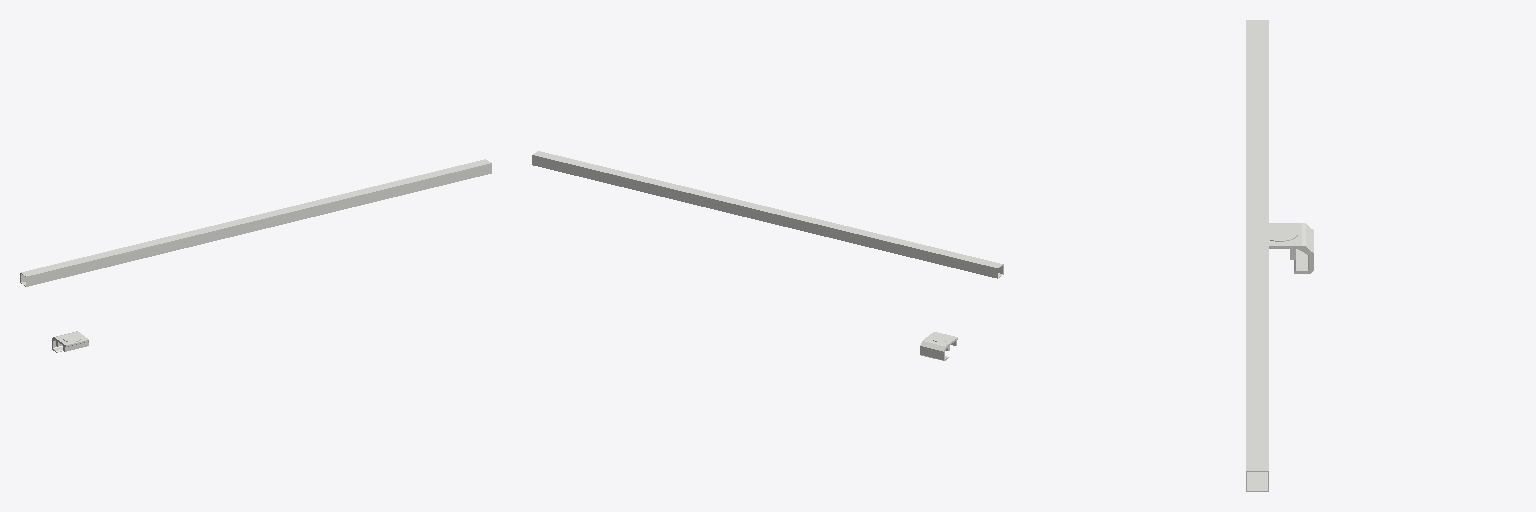
URDF robot description (linear_axis_two_robots):
<?xml version="1.0" ?>
<!-- =================================================================================== -->
<!-- |    This document was autogenerated by xacro from linear_axis_two_robots.xacro   | -->
<!-- |    EDITING THIS FILE BY HAND IS NOT RECOMMENDED                                 | -->
<!-- =================================================================================== -->
<robot name="linear_axis_two_robots" xmlns:xacro="http://wiki.ros.org/xacro">
  <!-- Conversion were obtained from http://www.e-paint.co.uk/Lab_values.asp
       unless otherwise stated. -->
  <!-- Conversion were obtained from http://www.e-paint.co.uk/Lab_values.asp
       unless otherwise stated. -->
  <link name="world"/>
  <joint name="world_joint" type="fixed">
    <parent link="world"/>
    <child link="axis"/>
    <origin rpy="0.0 0.0 0.0" xyz="0.0 0.0 0.0"/>
  </joint>
  <link name="axis">
    <inertial>
      <origin xyz="0.0 0.0 0.0"/>
      <mass value="120"/>
      <inertia ixx="-4.98000" ixy="-0.00000" ixz="2.70000" iyy="-5.95200" iyz="-0.00000" izz="0.82800"/>
    </inertial>
    <visual>
      <geometry>
        <mesh filename="package://abb_linear_axis/meshes/visual/axis.stl"/>
      </geometry>
      <material name="">
        <color rgba="0.9254902 0.9254902 0.9058824 1"/>
      </material>
    </visual>
    <collision>
      <geometry>
        <mesh filename="package://abb_linear_axis/meshes/collision/axis.stl"/>
      </geometry>
    </collision>
  </link>
  <joint name="cartA_joint" type="prismatic">
    <parent link="axis"/>
    <child link="cartA"/>
    <origin rpy="0 0 0 " xyz="1.926 0.349 0.812"/>
    <axis xyz="1 0 0"/>
    <limit effort="100000" lower="-1.926" upper="0.675" velocity="2.618"/>
    <dynamics damping="0.2" friction="0"/>
  </joint>
  <link name="cartA">
    <inertial>
      <origin xyz="0.0 0.0 0.0"/>
      <mass value="120.00000"/>
      <inertia ixx="-4.98000" ixy="-0.00000" ixz="2.70000" iyy="-5.95200" iyz="-0.00000" izz="0.82800"/>
    </inertial>
    <visual>
      <geometry>
        <mesh filename="package://abb_linear_axis/meshes/visual/cart.stl"/>
      </geometry>
      <material name="">
        <color rgba="0.9254902 0.9254902 0.9058824 1"/>
      </material>
    </visual>
    <collision>
      <geometry>
        <mesh filename="package://abb_linear_axis/meshes/collision/cart.stl"/>
      </geometry>
    </collision>
  </link>
  <joint name="cartB_joint" type="prismatic">
    <parent link="axis"/>
    <child link="cartB"/>
    <origin rpy="0 0 0 " xyz="1.926 0.349 0.812"/>
    <axis xyz="1 0 0"/>
    <limit effort="100000" lower="-0.675" upper="1.926" velocity="2.618"/>
    <dynamics damping="0.2" friction="0"/>
  </joint>
  <link name="cartB">
    <inertial>
      <origin xyz="0.0 0.0 0.0"/>
      <mass value="120.00000"/>
      <inertia ixx="-4.98000" ixy="-0.00000" ixz="2.70000" iyy="-5.95200" iyz="-0.00000" izz="0.82800"/>
    </inertial>
    <visual>
      <geometry>
        <mesh filename="package://abb_linear_axis/meshes/visual/cart.stl"/>
      </geometry>
      <material name="">
        <color rgba="0.9254902 0.9254902 0.9058824 1"/>
      </material>
    </visual>
    <collision>
      <geometry>
        <mesh filename="package://abb_linear_axis/meshes/collision/cart.stl"/>
      </geometry>
    </collision>
  </link>
  <joint name="abb_jointA" type="fixed">
    <parent link="cartA"/>
    <child link="robotA_base_link"/>
    <origin rpy="0 0 0 " xyz="0 0 0 "/>
    <dynamics damping="0.2" friction="0"/>
  </joint>
  <!-- link list -->
  <link name="robotA_base_link">
    <inertial>
      <origin xyz="0.0 0.0 0.0"/>
      <mass value="120.00000"/>
      <inertia ixx="-4.98000" ixy="-0.00000" ixz="2.70000" iyy="-5.95200" iyz="-0.00000" izz="0.82800"/>
    </inertial>
    <visual>
      <geometry>
        <mesh filename="package://abb_irb4600_40_255/meshes/visual/base_link.stl"/>
      </geometry>
      <material name="">
        <color rgba="0.7725490 0.7803922 0.7686275 1"/>
      </material>
    </visual>
    <collision>
      <geometry>
        <mesh filename="package://abb_irb4600_40_255/meshes/collision/base_link.stl"/>
      </geometry>
    </collision>
  </link>
  <link name="robotA_link_1">
    <inertial>
      <origin xyz="0.18000 0.00000 0.50000"/>
      <mass value="120.00000"/>
      <inertia ixx="-4.98000" ixy="-0.00000" ixz="2.70000" iyy="-5.95200" iyz="-0.00000" izz="0.82800"/>
    </inertial>
    <visual>
      <geometry>
        <mesh filename="package://abb_irb4600_40_255/meshes/visual/link_1.stl"/>
      </geometry>
      <material name="">
        <color rgba="0.7725490 0.7803922 0.7686275 1"/>
      </material>
    </visual>
    <collision>
      <geometry>
        <mesh filename="package://abb_irb4600_40_255/meshes/collision/link_1.stl"/>
      </geometry>
    </collision>
  </link>
  <link name="robotA_link_2">
    <inertial>
      <origin xyz="0.94000 0.08000 -0.34000"/>
      <mass value="120.00000"/>
      <inertia ixx="-2.96000" ixy="2.25600" ixz="-9.58800" iyy="-18.72601" iyz="-0.81600" izz="-14.95000"/>
    </inertial>
    <visual>
      <geometry>
        <mesh filename="package://abb_irb4600_40_255/meshes/visual/link_2.stl"/>
      </geometry>
      <material name="">
        <color rgba="0.7725490 0.7803922 0.7686275 1"/>
      </material>
    </visual>
    <collision>
      <geometry>
        <mesh filename="package://abb_irb4600_40_255/meshes/collision/link_2.stl"/>
      </geometry>
    </collision>
  </link>
  <link name="robotA_link_3">
    <inertial>
      <origin xyz="0.07000 -0.26600 0.08800"/>
      <mass value="120.00000"/>
      <inertia ixx="1.34500" ixy="-0.55860" ixz="0.18480" iyy="4.65068" iyz="-0.70224" izz="2.76032"/>
    </inertial>
    <visual>
      <geometry>
        <mesh filename="package://abb_irb4600_40_255/meshes/visual/link_3.stl"/>
      </geometry>
      <material name="">
        <color rgba="0.7725490 0.7803922 0.7686275 1"/>
      </material>
    </visual>
    <collision>
      <geometry>
        <mesh filename="package://abb_irb4600_40_255/meshes/collision/link_3.stl"/>
      </geometry>
    </collision>
  </link>
  <link name="robotA_link_4">
    <inertial>
      <origin xyz="0.00000 0.00000 1.00000"/>
      <mass value="40.00000"/>
      <inertia ixx="-8.00000" ixy="-0.00000" ixz="-0.00000" iyy="-8.00000" iyz="-0.00000" izz="0.48200"/>
    </inertial>
    <visual>
      <geometry>
        <mesh filename="package://abb_irb4600_40_255/meshes/visual/link_4.stl"/>
      </geometry>
      <material name="">
        <color rgba="0.7725490 0.7803922 0.7686275 1"/>
      </material>
    </visual>
    <collision>
      <geometry>
        <mesh filename="package://abb_irb4600_40_255/meshes/collision/link_4.stl"/>
      </geometry>
    </collision>
  </link>
  <link name="robotA_link_5">
    <inertial>
      <origin xyz="0.14000 0.00000 0.00000"/>
      <mass value="10.00000"/>
      <inertia ixx="0.04000" ixy="-0.00000" ixz="-0.00000" iyy="-0.00900" iyz="-0.00000" izz="-0.00400"/>
    </inertial>
    <visual>
      <geometry>
        <mesh filename="package://abb_irb4600_40_255/meshes/visual/link_5.stl"/>
      </geometry>
      <material name="">
        <color rgba="0.7725490 0.7803922 0.7686275 1"/>
      </material>
    </visual>
    <collision>
      <geometry>
        <mesh filename="package://abb_irb4600_40_255/meshes/collision/link_5.stl"/>
      </geometry>
    </collision>
  </link>
  <link name="robotA_link_6">
    <inertial>
      <origin xyz="0.08100 -0.09100 0.33200"/>
      <mass value="5.00000"/>
      <inertia ixx="-0.29652" ixy="-0.03686" ixz="0.09396" iyy="-0.28792" iyz="-0.10556" izz="-0.04621"/>
    </inertial>
    <visual>
      <geometry>
        <mesh filename="package://abb_irb4600_40_255/meshes/visual/link_6.stl"/>
      </geometry>
      <material name="">
        <color rgba="0.1882353 0.1960784 0.2039216 1"/>
      </material>
    </visual>
    <collision>
      <geometry>
        <mesh filename="package://abb_irb4600_40_255/meshes/collision/link_6.stl"/>
      </geometry>
    </collision>
  </link>
  <link name="robotA_tool0"/>
  <!-- end of link list -->
  <!-- joint list -->
  <joint name="robotA_joint_1" type="revolute">
    <parent link="robotA_base_link"/>
    <child link="robotA_link_1"/>
    <origin rpy="0 0 0 " xyz="0 0 0"/>
    <axis xyz="0 0 1"/>
    <limit effort="100000" lower="-3.14159" upper="3.14159" velocity="2.618"/>
    <dynamics damping="0.2" friction="0"/>
  </joint>
  <joint name="robotA_joint_2" type="revolute">
    <parent link="robotA_link_1"/>
    <child link="robotA_link_2"/>
    <origin rpy="0 -0 0 " xyz="0.175 0 0.495"/>
    <axis xyz="0 1 0"/>
    <limit effort="100000" lower="-1.5708" upper="2.61799" velocity="2.618"/>
    <dynamics damping="0.2" friction="0"/>
  </joint>
  <joint name="robotA_joint_3" type="revolute">
    <parent link="robotA_link_2"/>
    <child link="robotA_link_3"/>
    <origin rpy="0 -0 0 " xyz="0 0 1.095"/>
    <axis xyz="0 1 0"/>
    <limit effort="100000" lower="-3.14159" upper="1.309" velocity="2.618"/>
    <dynamics damping="0.2" friction="0"/>
  </joint>
  <joint name="robotA_joint_4" type="revolute">
    <parent link="robotA_link_3"/>
    <child link="robotA_link_4"/>
    <origin rpy="0 -0 0 " xyz="0.332 0 0.175"/>
    <axis xyz="1 0 0"/>
    <limit effort="10000" lower="-6.98132" upper="6.98132" velocity="6.2832"/>
    <dynamics damping="0.2" friction="0"/>
  </joint>
  <joint name="robotA_joint_5" type="revolute">
    <parent link="robotA_link_4"/>
    <child link="robotA_link_5"/>
    <origin rpy="0 -0 0 " xyz="0.939 0 0"/>
    <axis xyz="0 1 0"/>
    <limit effort="100000" lower="-2.18166" upper="2.0944" velocity="6.2832"/>
    <dynamics damping="0.2" friction="0"/>
  </joint>
  <joint name="robotA_joint_6" type="revolute">
    <parent link="robotA_link_5"/>
    <child link="robotA_link_6"/>
    <origin rpy="0 1.57076 0 " xyz="0.135 0 0"/>
    <axis xyz="0 0 1"/>
    <limit effort="100000" lower="-6.98132" upper="6.98132" velocity="7.854"/>
    <dynamics damping="0.2" friction="0"/>
  </joint>
  <joint name="robotA_joint_6-tool0" type="fixed">
    <parent link="robotA_link_6"/>
    <child link="robotA_tool0"/>
    <origin rpy="0 0 0" xyz="0 0 0"/>
  </joint>
  <!-- end of joint list -->
  <!-- ROS base_link to ABB World Coordinates transform -->
  <link name="robotA_base"/>
  <joint name="robotA_base_link-base" type="fixed">
    <origin rpy="0 0 0" xyz="0 0 0"/>
    <parent link="robotA_base_link"/>
    <child link="robotA_base"/>
  </joint>
  <joint name="abb_jointB" type="fixed">
    <parent link="cartB"/>
    <child link="robotB_base_link"/>
    <origin rpy="0 0 0 " xyz="0 0 0 "/>
    <dynamics damping="0.2" friction="0"/>
  </joint>
  <!-- link list -->
  <link name="robotB_base_link">
    <inertial>
      <origin xyz="0.0 0.0 0.0"/>
      <mass value="120.00000"/>
      <inertia ixx="-4.98000" ixy="-0.00000" ixz="2.70000" iyy="-5.95200" iyz="-0.00000" izz="0.82800"/>
    </inertial>
    <visual>
      <geometry>
        <mesh filename="package://abb_irb4600_40_255/meshes/visual/base_link.stl"/>
      </geometry>
      <material name="">
        <color rgba="0.7725490 0.7803922 0.7686275 1"/>
      </material>
    </visual>
    <collision>
      <geometry>
        <mesh filename="package://abb_irb4600_40_255/meshes/collision/base_link.stl"/>
      </geometry>
    </collision>
  </link>
  <link name="robotB_link_1">
    <inertial>
      <origin xyz="0.18000 0.00000 0.50000"/>
      <mass value="120.00000"/>
      <inertia ixx="-4.98000" ixy="-0.00000" ixz="2.70000" iyy="-5.95200" iyz="-0.00000" izz="0.82800"/>
    </inertial>
    <visual>
      <geometry>
        <mesh filename="package://abb_irb4600_40_255/meshes/visual/link_1.stl"/>
      </geometry>
      <material name="">
        <color rgba="0.7725490 0.7803922 0.7686275 1"/>
      </material>
    </visual>
    <collision>
      <geometry>
        <mesh filename="package://abb_irb4600_40_255/meshes/collision/link_1.stl"/>
      </geometry>
    </collision>
  </link>
  <link name="robotB_link_2">
    <inertial>
      <origin xyz="0.94000 0.08000 -0.34000"/>
      <mass value="120.00000"/>
      <inertia ixx="-2.96000" ixy="2.25600" ixz="-9.58800" iyy="-18.72601" iyz="-0.81600" izz="-14.95000"/>
    </inertial>
    <visual>
      <geometry>
        <mesh filename="package://abb_irb4600_40_255/meshes/visual/link_2.stl"/>
      </geometry>
      <material name="">
        <color rgba="0.7725490 0.7803922 0.7686275 1"/>
      </material>
    </visual>
    <collision>
      <geometry>
        <mesh filename="package://abb_irb4600_40_255/meshes/collision/link_2.stl"/>
      </geometry>
    </collision>
  </link>
  <link name="robotB_link_3">
    <inertial>
      <origin xyz="0.07000 -0.26600 0.08800"/>
      <mass value="120.00000"/>
      <inertia ixx="1.34500" ixy="-0.55860" ixz="0.18480" iyy="4.65068" iyz="-0.70224" izz="2.76032"/>
    </inertial>
    <visual>
      <geometry>
        <mesh filename="package://abb_irb4600_40_255/meshes/visual/link_3.stl"/>
      </geometry>
      <material name="">
        <color rgba="0.7725490 0.7803922 0.7686275 1"/>
      </material>
    </visual>
    <collision>
      <geometry>
        <mesh filename="package://abb_irb4600_40_255/meshes/collision/link_3.stl"/>
      </geometry>
    </collision>
  </link>
  <link name="robotB_link_4">
    <inertial>
      <origin xyz="0.00000 0.00000 1.00000"/>
      <mass value="40.00000"/>
      <inertia ixx="-8.00000" ixy="-0.00000" ixz="-0.00000" iyy="-8.00000" iyz="-0.00000" izz="0.48200"/>
    </inertial>
    <visual>
      <geometry>
        <mesh filename="package://abb_irb4600_40_255/meshes/visual/link_4.stl"/>
      </geometry>
      <material name="">
        <color rgba="0.7725490 0.7803922 0.7686275 1"/>
      </material>
    </visual>
    <collision>
      <geometry>
        <mesh filename="package://abb_irb4600_40_255/meshes/collision/link_4.stl"/>
      </geometry>
    </collision>
  </link>
  <link name="robotB_link_5">
    <inertial>
      <origin xyz="0.14000 0.00000 0.00000"/>
      <mass value="10.00000"/>
      <inertia ixx="0.04000" ixy="-0.00000" ixz="-0.00000" iyy="-0.00900" iyz="-0.00000" izz="-0.00400"/>
    </inertial>
    <visual>
      <geometry>
        <mesh filename="package://abb_irb4600_40_255/meshes/visual/link_5.stl"/>
      </geometry>
      <material name="">
        <color rgba="0.7725490 0.7803922 0.7686275 1"/>
      </material>
    </visual>
    <collision>
      <geometry>
        <mesh filename="package://abb_irb4600_40_255/meshes/collision/link_5.stl"/>
      </geometry>
    </collision>
  </link>
  <link name="robotB_link_6">
    <inertial>
      <origin xyz="0.08100 -0.09100 0.33200"/>
      <mass value="5.00000"/>
      <inertia ixx="-0.29652" ixy="-0.03686" ixz="0.09396" iyy="-0.28792" iyz="-0.10556" izz="-0.04621"/>
    </inertial>
    <visual>
      <geometry>
        <mesh filename="package://abb_irb4600_40_255/meshes/visual/link_6.stl"/>
      </geometry>
      <material name="">
        <color rgba="0.1882353 0.1960784 0.2039216 1"/>
      </material>
    </visual>
    <collision>
      <geometry>
        <mesh filename="package://abb_irb4600_40_255/meshes/collision/link_6.stl"/>
      </geometry>
    </collision>
  </link>
  <link name="robotB_tool0"/>
  <!-- end of link list -->
  <!-- joint list -->
  <joint name="robotB_joint_1" type="revolute">
    <parent link="robotB_base_link"/>
    <child link="robotB_link_1"/>
    <origin rpy="0 0 0 " xyz="0 0 0"/>
    <axis xyz="0 0 1"/>
    <limit effort="100000" lower="-3.14159" upper="3.14159" velocity="2.618"/>
    <dynamics damping="0.2" friction="0"/>
  </joint>
  <joint name="robotB_joint_2" type="revolute">
    <parent link="robotB_link_1"/>
    <child link="robotB_link_2"/>
    <origin rpy="0 -0 0 " xyz="0.175 0 0.495"/>
    <axis xyz="0 1 0"/>
    <limit effort="100000" lower="-1.5708" upper="2.61799" velocity="2.618"/>
    <dynamics damping="0.2" friction="0"/>
  </joint>
  <joint name="robotB_joint_3" type="revolute">
    <parent link="robotB_link_2"/>
    <child link="robotB_link_3"/>
    <origin rpy="0 -0 0 " xyz="0 0 1.095"/>
    <axis xyz="0 1 0"/>
    <limit effort="100000" lower="-3.14159" upper="1.309" velocity="2.618"/>
    <dynamics damping="0.2" friction="0"/>
  </joint>
  <joint name="robotB_joint_4" type="revolute">
    <parent link="robotB_link_3"/>
    <child link="robotB_link_4"/>
    <origin rpy="0 -0 0 " xyz="0.332 0 0.175"/>
    <axis xyz="1 0 0"/>
    <limit effort="10000" lower="-6.98132" upper="6.98132" velocity="6.2832"/>
    <dynamics damping="0.2" friction="0"/>
  </joint>
  <joint name="robotB_joint_5" type="revolute">
    <parent link="robotB_link_4"/>
    <child link="robotB_link_5"/>
    <origin rpy="0 -0 0 " xyz="0.939 0 0"/>
    <axis xyz="0 1 0"/>
    <limit effort="100000" lower="-2.18166" upper="2.0944" velocity="6.2832"/>
    <dynamics damping="0.2" friction="0"/>
  </joint>
  <joint name="robotB_joint_6" type="revolute">
    <parent link="robotB_link_5"/>
    <child link="robotB_link_6"/>
    <origin rpy="0 1.57076 0 " xyz="0.135 0 0"/>
    <axis xyz="0 0 1"/>
    <limit effort="100000" lower="-6.98132" upper="6.98132" velocity="7.854"/>
    <dynamics damping="0.2" friction="0"/>
  </joint>
  <joint name="robotB_joint_6-tool0" type="fixed">
    <parent link="robotB_link_6"/>
    <child link="robotB_tool0"/>
    <origin rpy="0 0 0" xyz="0 0 0"/>
  </joint>
  <!-- end of joint list -->
  <!-- ROS base_link to ABB World Coordinates transform -->
  <link name="robotB_base"/>
  <joint name="robotB_base_link-base" type="fixed">
    <origin rpy="0 0 0" xyz="0 0 0"/>
    <parent link="robotB_base_link"/>
    <child link="robotB_base"/>
  </joint>
</robot>

--- What the picture shows (computed from the rendered views, not written in the file) ---
Views: 3 orthographic renders of the robot side by side, from view 1: azimuth 30°, elevation 25°; view 2: azimuth 150°, elevation 25°; view 3: azimuth 270°, elevation 25°.
Robot: linear_axis_two_robots — 22 links, 21 joints (12 revolute, 2 prismatic, 7 fixed); root link world; default pose: all joints at 0.
Visible links, largest first — view 1: axis, cartA; view 2: axis, cartA; view 3: axis, cartA.
Boxes of the visible links, <box> form: axis: <box>20,159,491,286</box>; cartA: <box>52,331,88,352</box>; axis: <box>532,151,1003,278</box>; cartA: <box>920,332,957,360</box>; axis: <box>1246,20,1268,491</box>; cartA: <box>1269,223,1313,273</box>.
Bounding box of the posed robot: 16.5 × 1.05 × 3.23 m (x, y, z).
Meshes: 9 distinct files referenced, 3 mesh visuals loaded (2 binary STL); not drawn: 14 (reference not matched to a file when rendering).